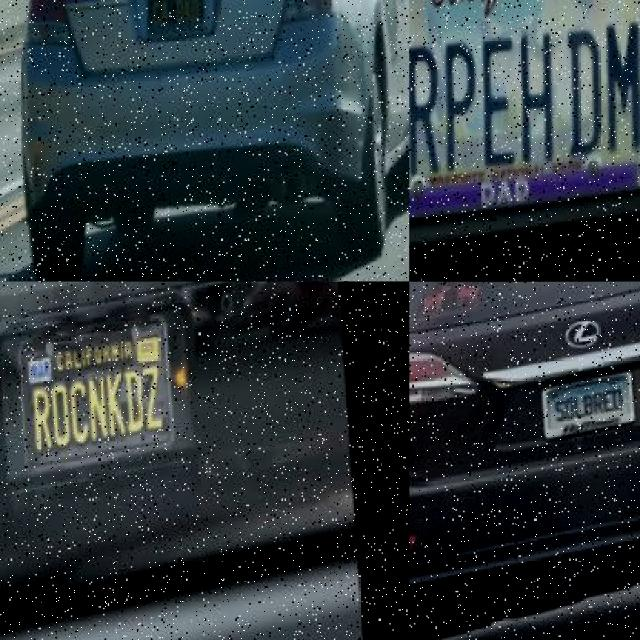licenseplate: (409, 0, 640, 249), (16, 318, 187, 476), (545, 375, 640, 442), (144, 0, 216, 46)
